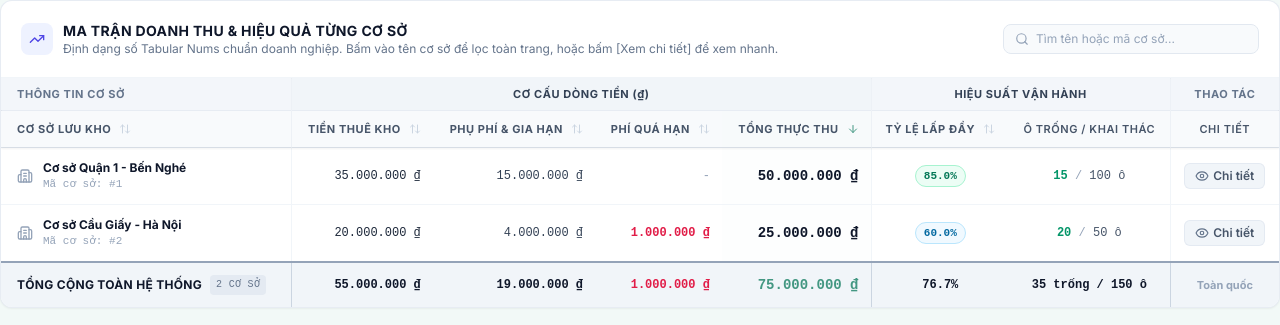
Scenario: FacilityPerformanceTable Component › supports facility search filter
Type "Quận 1" into the field with placeholder "Tìm tên hoặc mã cơ sở...". click: {"x": 1131, "y": 39}
box: [1003,24,1259,54]
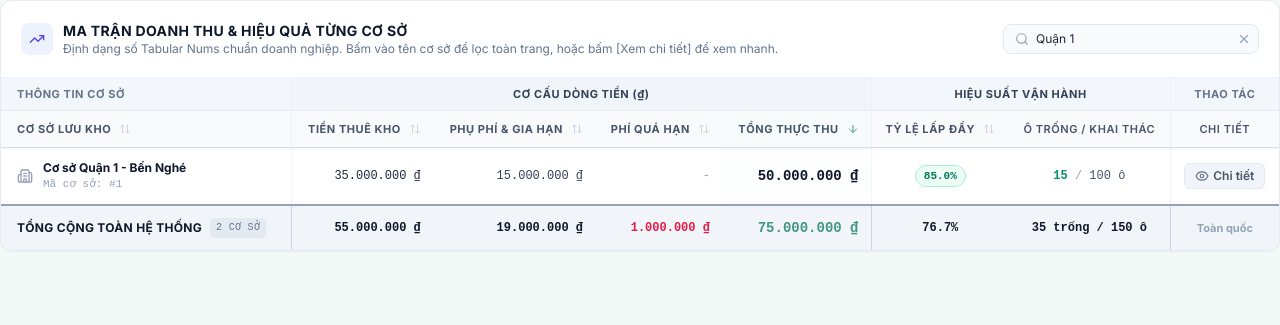
Expected: the text "Cơ sở Quận 1 - Bến Nghé" is shown, [43,160,186,176]
Expected: the button "Cơ sở Cầu Giấy - Hà Nội" is gone
